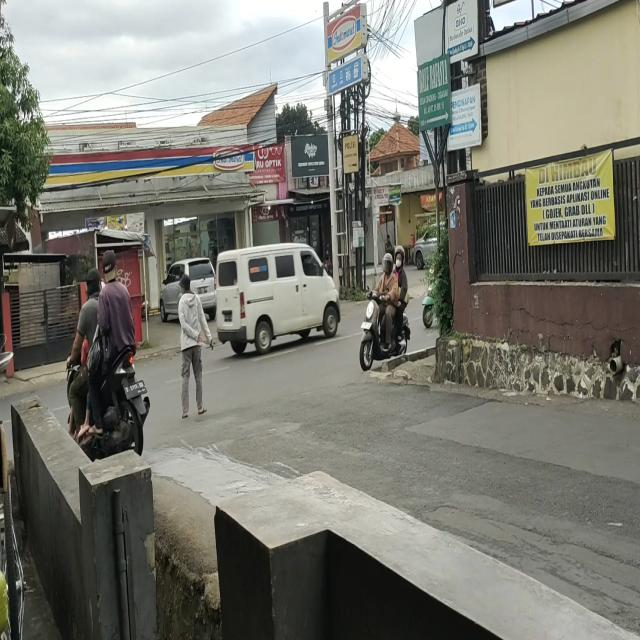helmet: (382, 254, 393, 274), (395, 247, 405, 268)
no-helmet: (102, 250, 117, 279), (86, 270, 100, 294)
